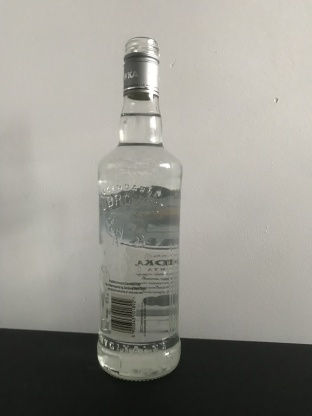nakretka: (121, 34, 161, 101)
